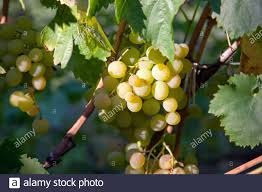grapes: (91, 47, 180, 164), (5, 19, 51, 134)
